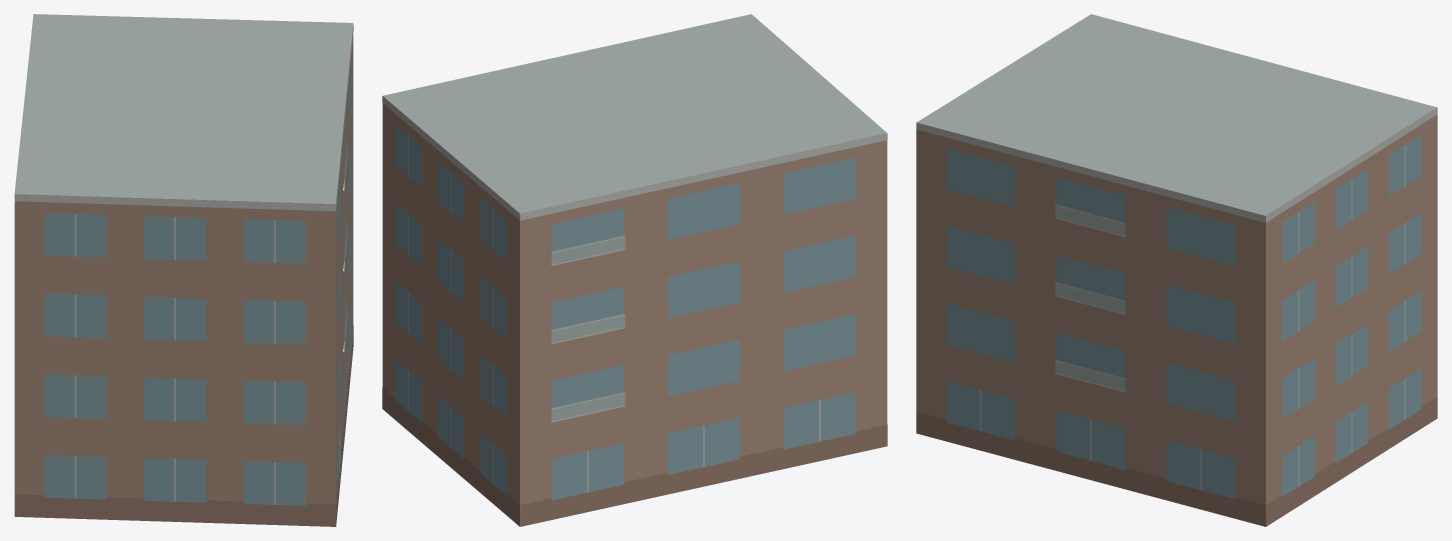
The model's file is survey-upis-32679080.glb.
3 renders of one model, left to right at view 1: azimuth 30°, elevation 25°; view 2: azimuth 150°, elevation 25°; view 3: azimuth 270°, elevation 25°, orthographic. The views are drawn at different scales.
Parts seen in each view (by area): view 1: survey-upis-32679080.tmp; view 2: survey-upis-32679080.tmp; view 3: survey-upis-32679080.tmp.
Part boxes in pixels (x1,y1,x2,y2): survey-upis-32679080.tmp: [14, 14, 353, 526]; survey-upis-32679080.tmp: [382, 14, 887, 526]; survey-upis-32679080.tmp: [916, 14, 1437, 526].
Bounding box in the file's own units: 15.28 × 10.96 × 16.66.
